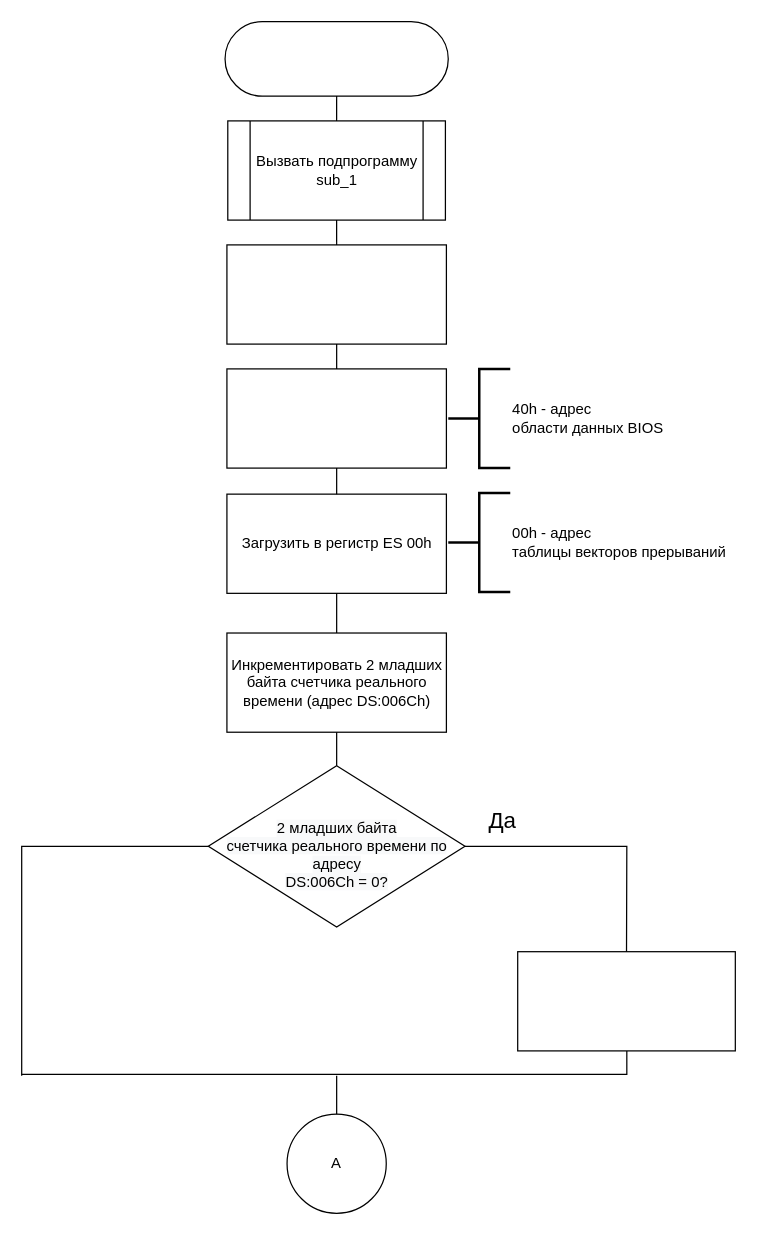
This 758x1235 diagram has some shape labels left out. The shapes that lost their labels are listed below. From the top down, each one's centre as x and y in pixels, then its label:
point 336,58: Начало
point 336,294: Сохранить содержимое регистров AX, DX, DS и ES
point 336,418: Загрузить в регистр DS 40h
point 625,1000: Инкрементировать 2 старших байта счетчика реального времени (адрес DS:006Eh)
